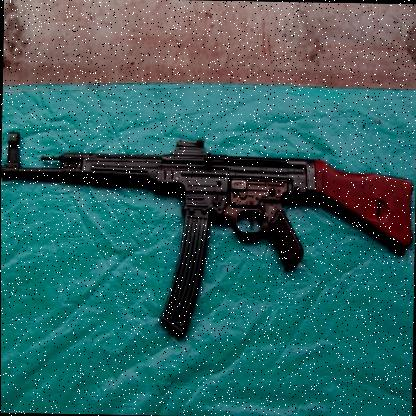rifle: (0, 113, 412, 341)
